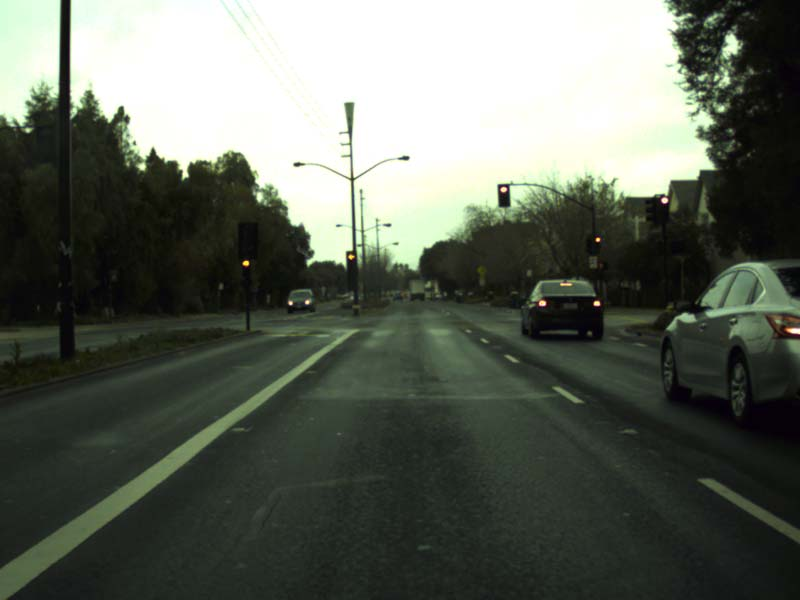Red: (346, 250, 357, 277), (497, 184, 509, 206), (242, 258, 251, 287), (659, 195, 669, 218), (594, 236, 602, 253)
